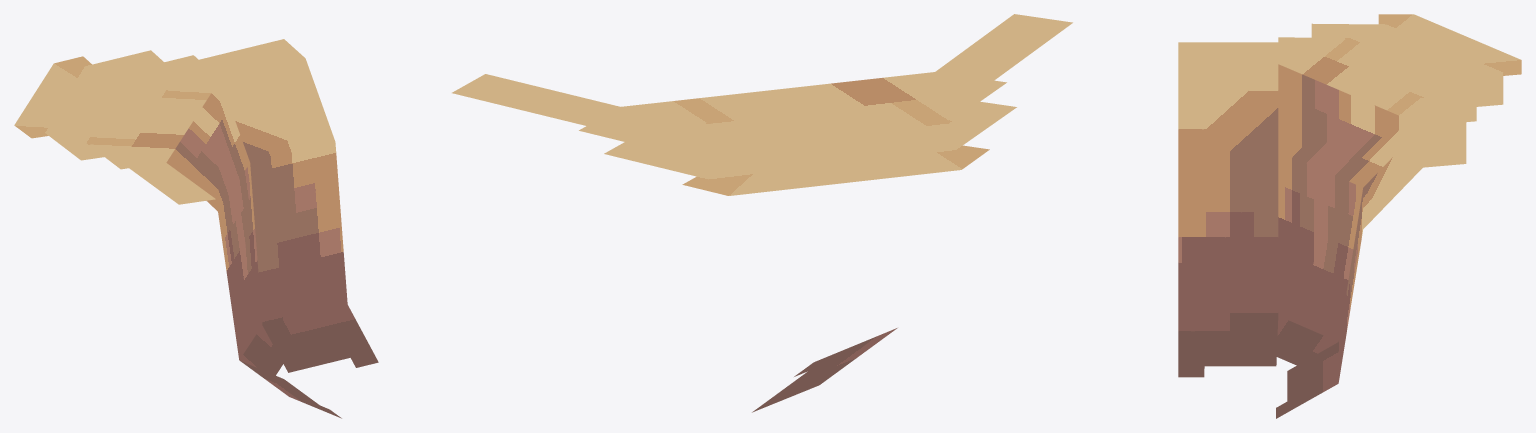
3 views of the same model, side by side, from view 1: azimuth 30°, elevation 25°; view 2: azimuth 150°, elevation 25°; view 3: azimuth 270°, elevation 25° (orthographic). The views are drawn at different scales.
Size of the model in its own units: 0.7236 by 0.6035 by 0.7236.
Materials: 1 (1 with a texture image).
